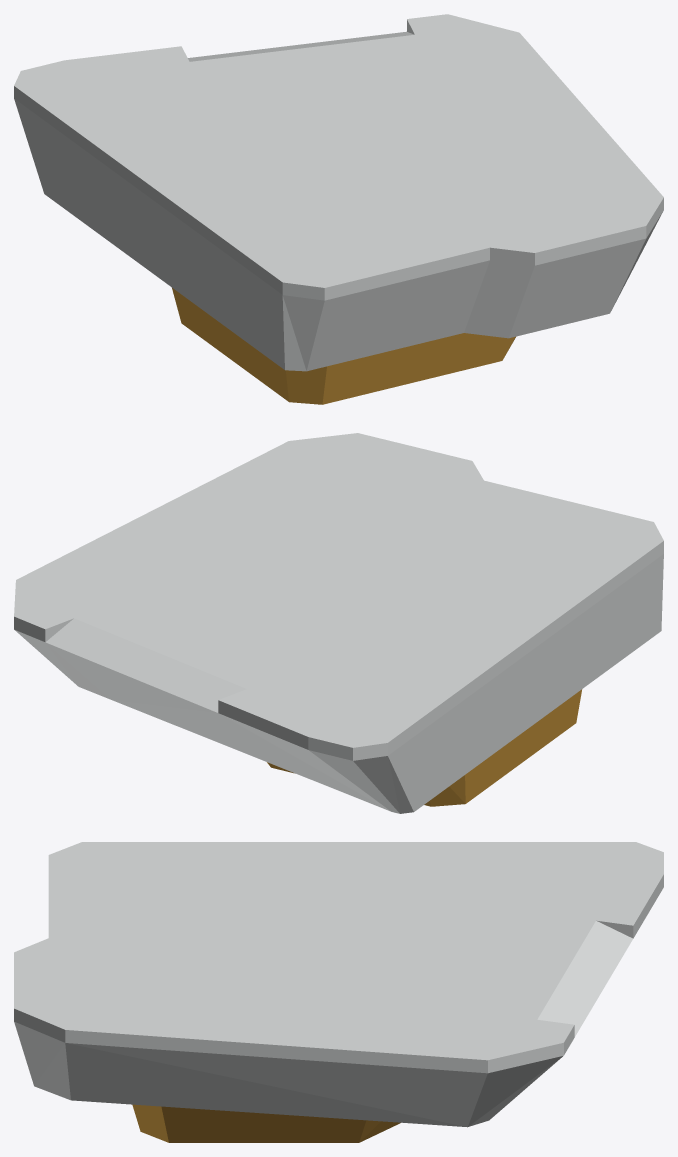
The model's file is rx78_object_028-lib.dae.
The picture shows the model from 3 angles, top to bottom: view 1: azimuth 30°, elevation 25°; view 2: azimuth 150°, elevation 25°; view 3: azimuth 270°, elevation 25°; orthographic projection. The views are drawn at different scales.
Visible parts, largest first — view 1: rx78_object_028Mesh-node; view 2: rx78_object_028Mesh-node; view 3: rx78_object_028Mesh-node.
Boxes of the visible parts, x1,y1,x2,y2 form: rx78_object_028Mesh-node: (14,14,663,404); rx78_object_028Mesh-node: (14,433,663,813); rx78_object_028Mesh-node: (14,842,663,1142).
Size of the model in its own units: 17.96 by 6.32 by 22.6.
